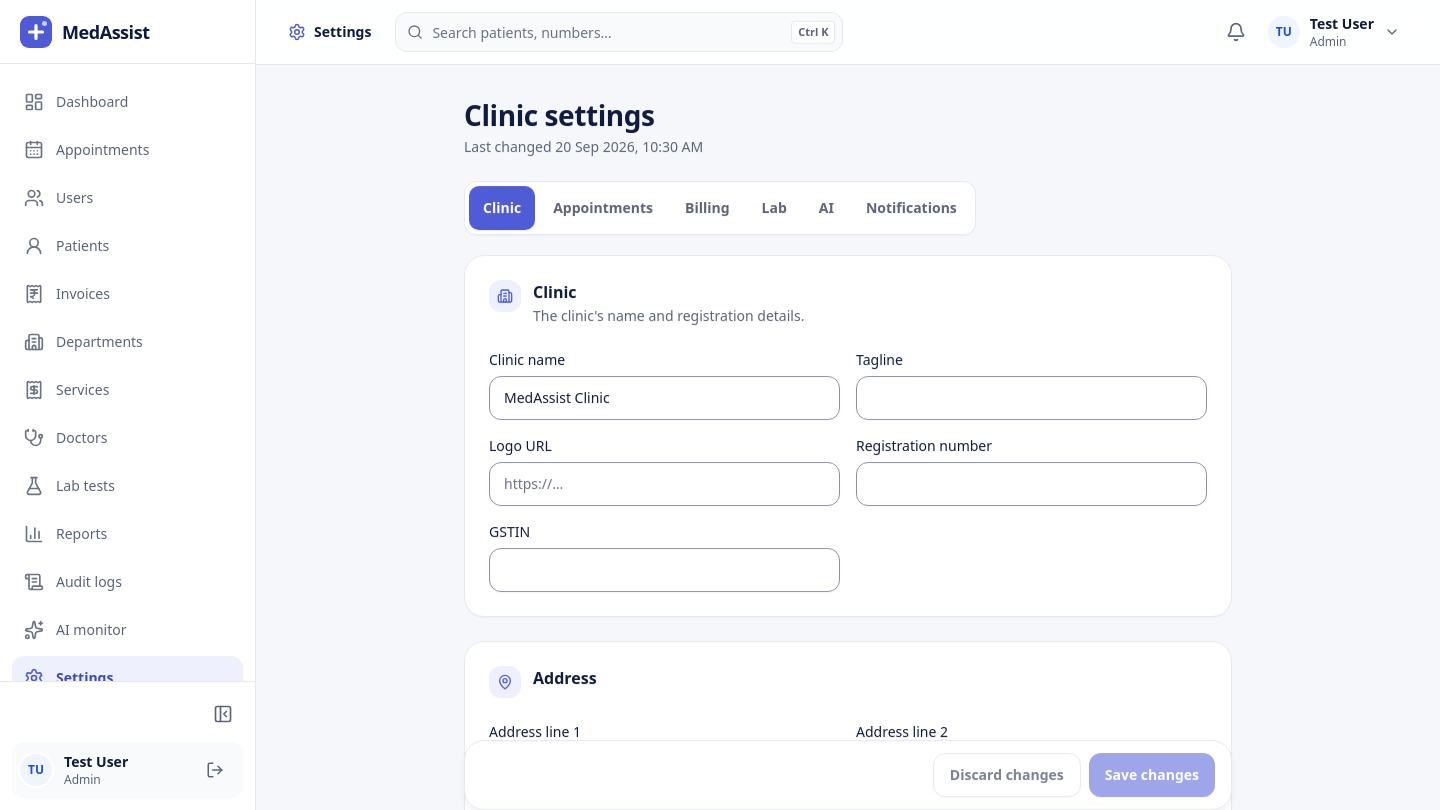
Test case: SettingsPage › saves only the changed fields, with tax as basis points
This screenshot has width=1440, height=810.
Expected: the field labelled "Clinic name" is shown, [489,376,840,420]
Expected: the button "Save changes" is disabled, [1089,753,1215,797]
Click the tab "Appointments" at [603, 208], box [539,186,667,230]
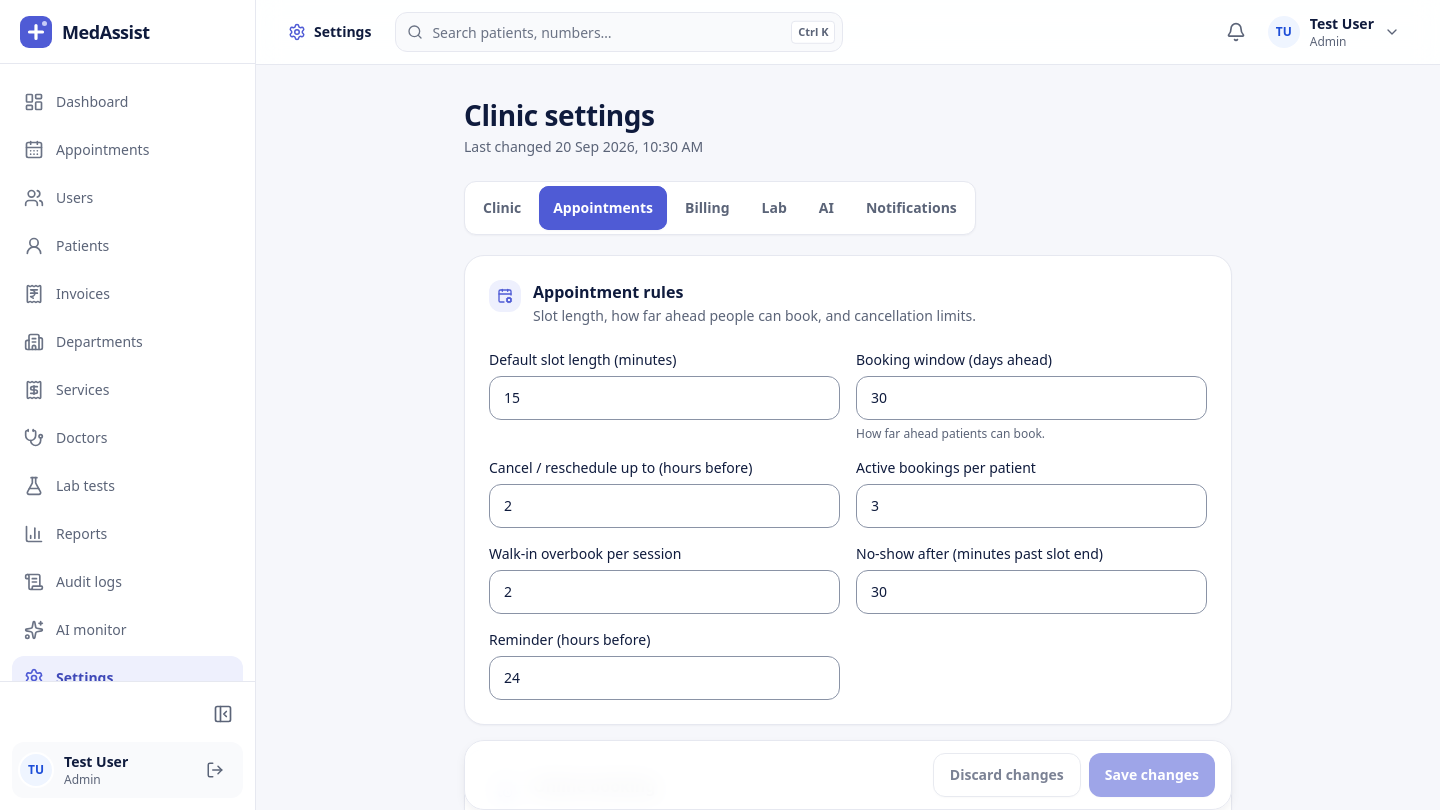
Replace the text in the number field labelled "Cancel / reschedule up to (hours before)" with "4" at [664, 506], box [489,484,840,528]
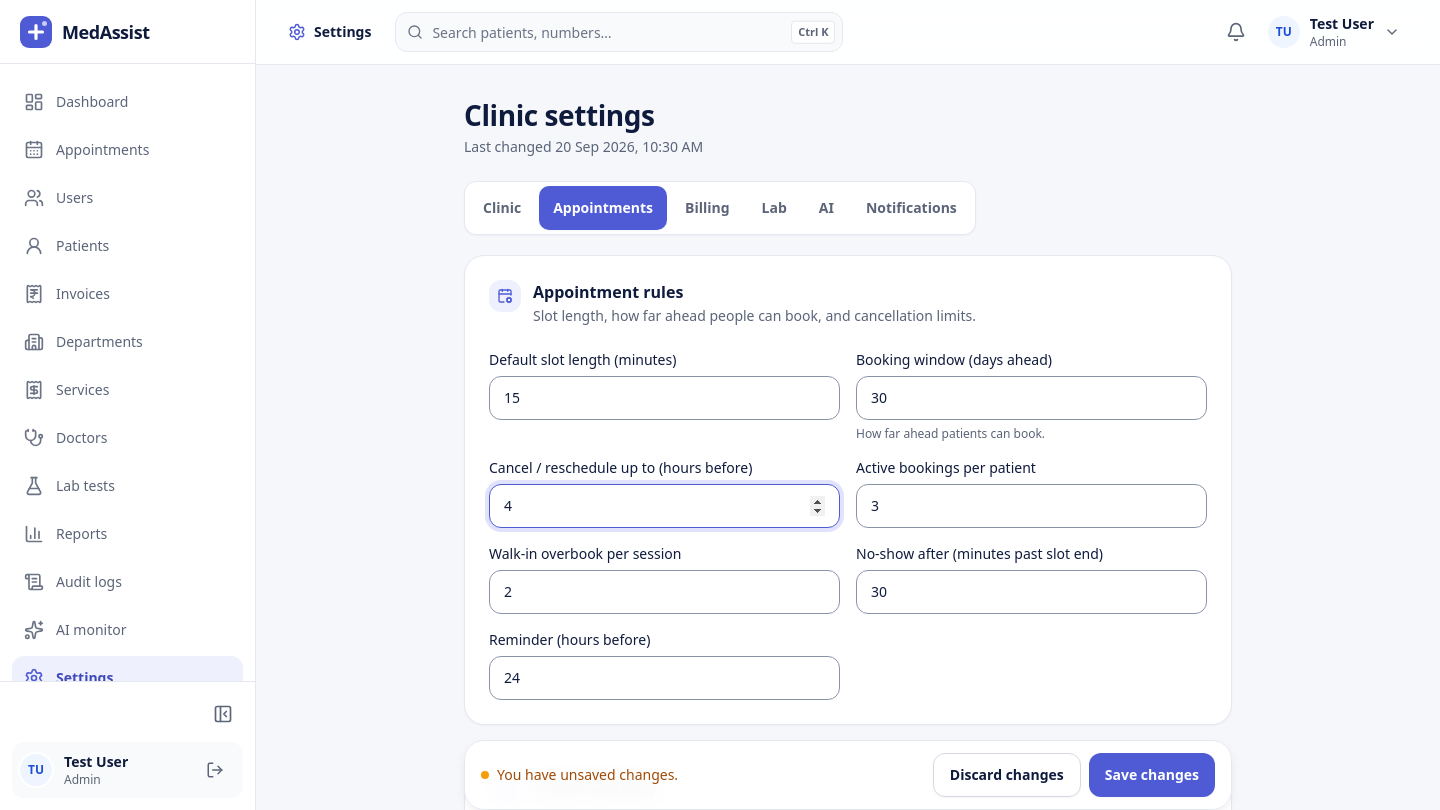
Click the tab "Billing" at [707, 208], box [671,186,744,230]
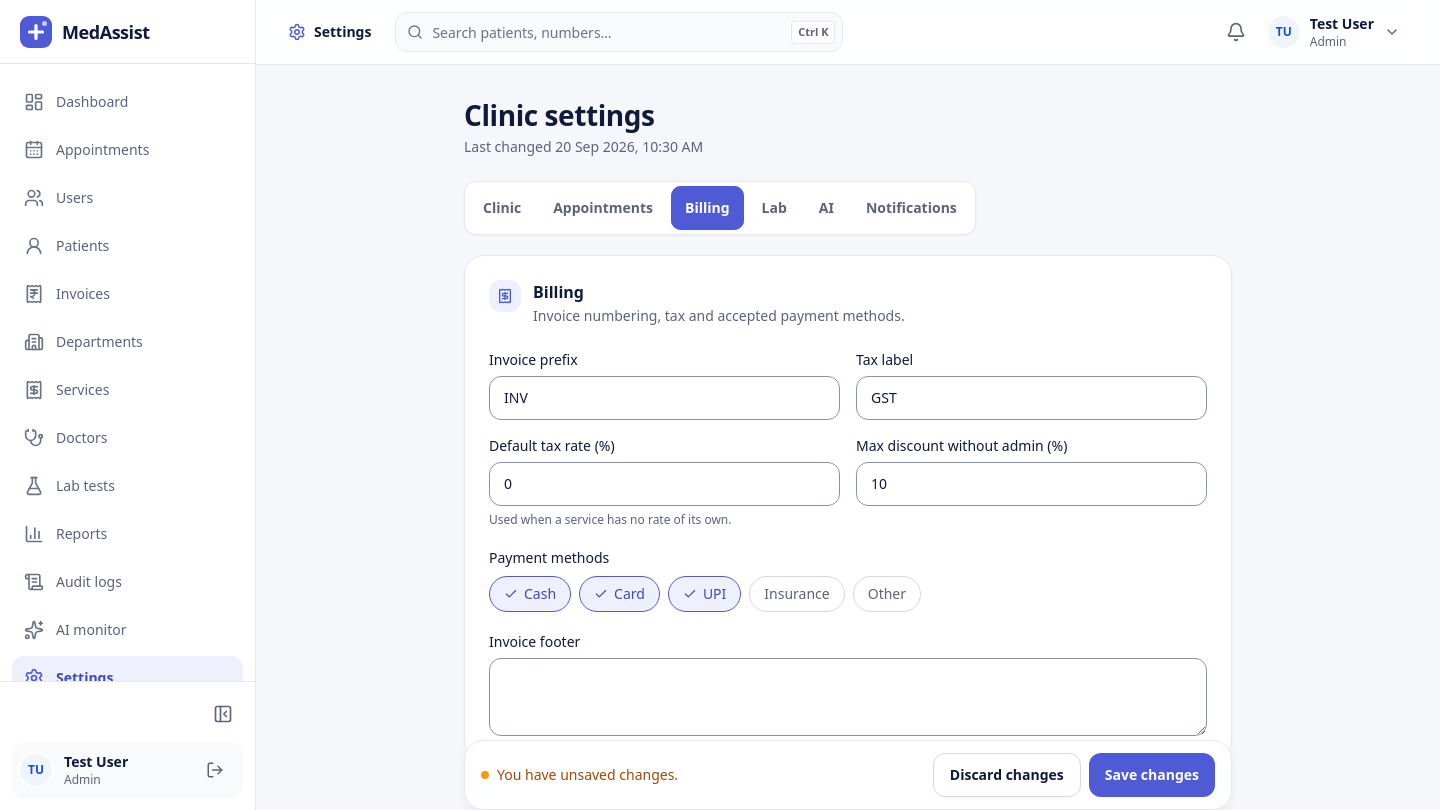
Replace the text in the number field labelled "Default tax rate (%)" with "18" at [664, 484], box [489,462,840,506]
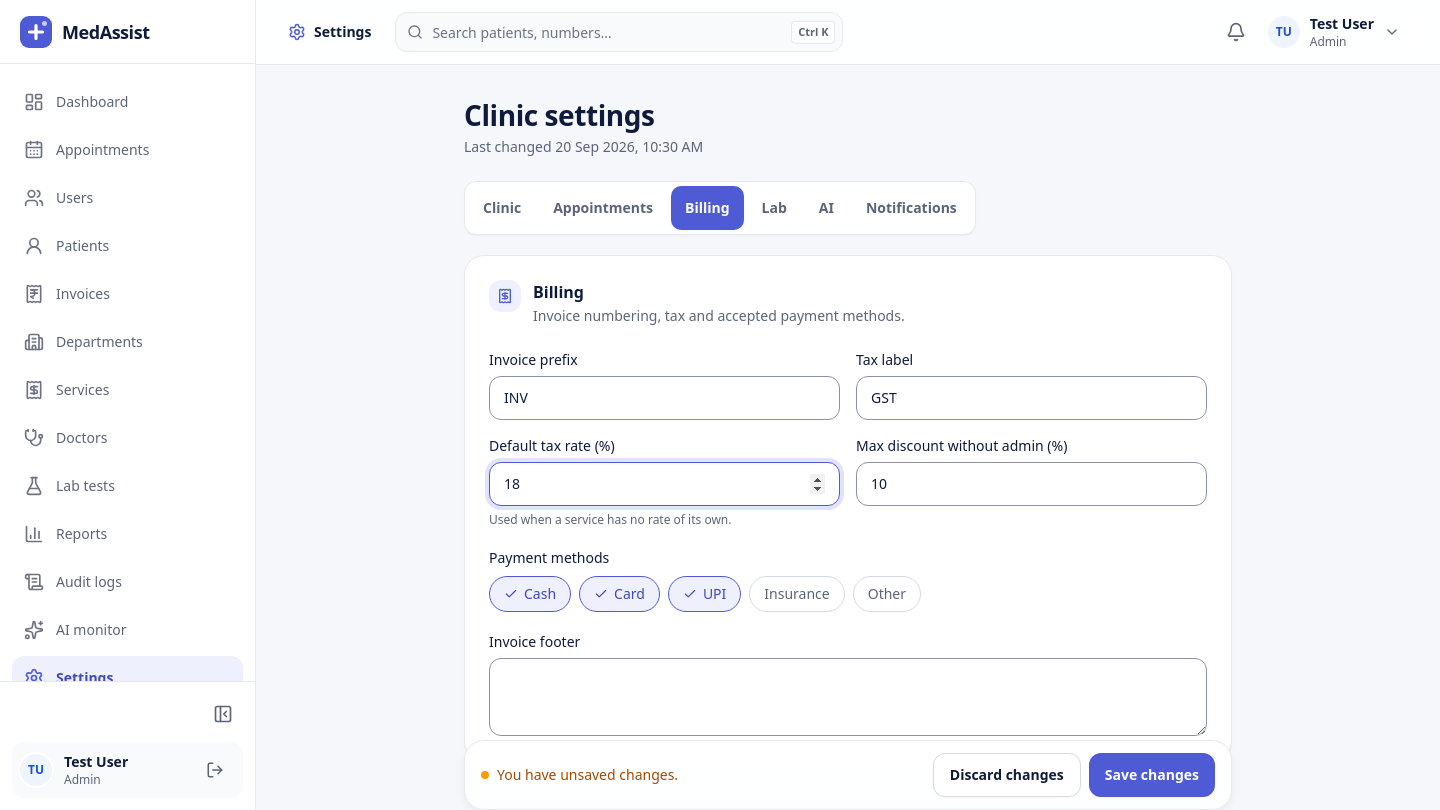
Click the button "Card" at [620, 594], box [579,576,660,612]
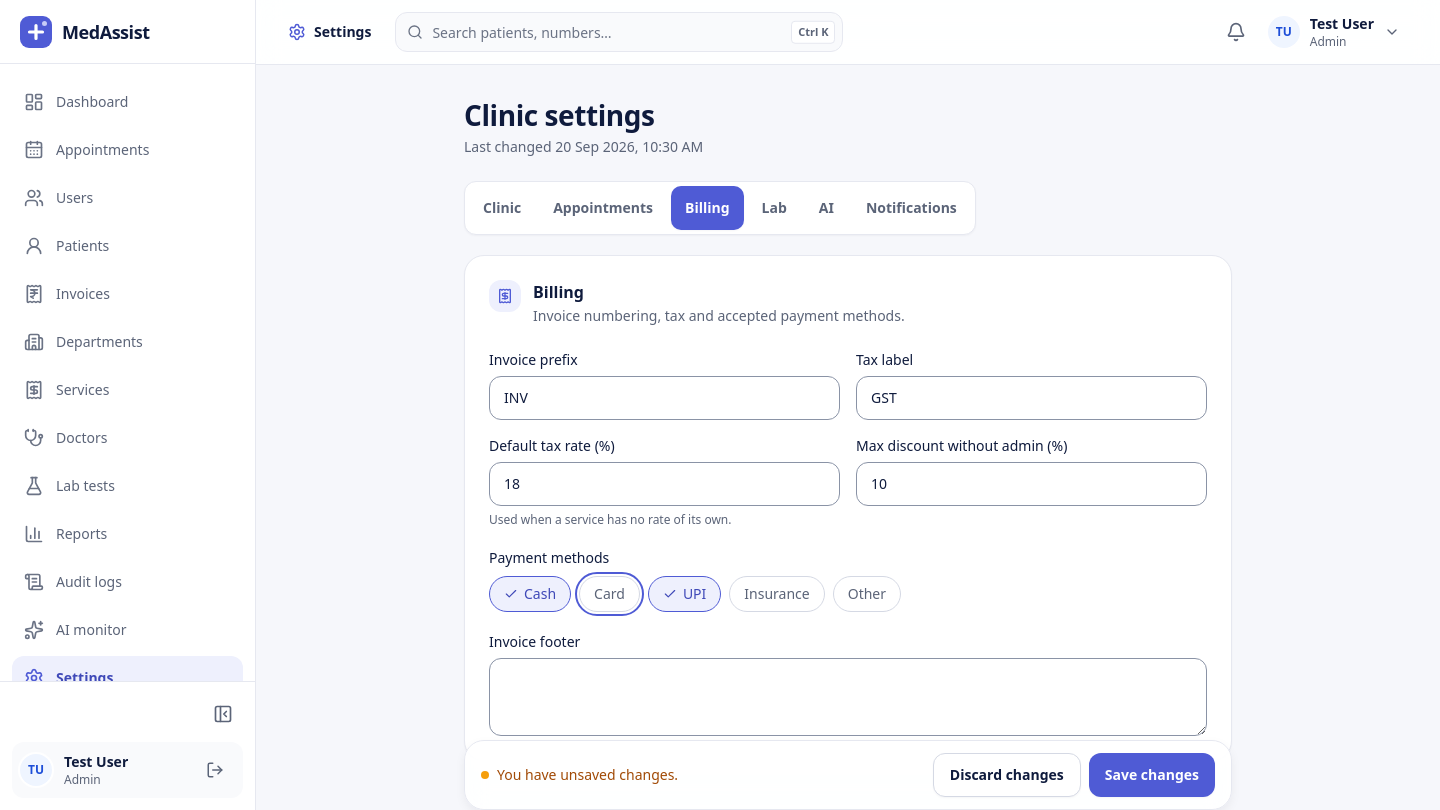
Result: the button "Save changes" is enabled
Click the button "Save changes" at [1152, 775], box [1089,753,1215,797]
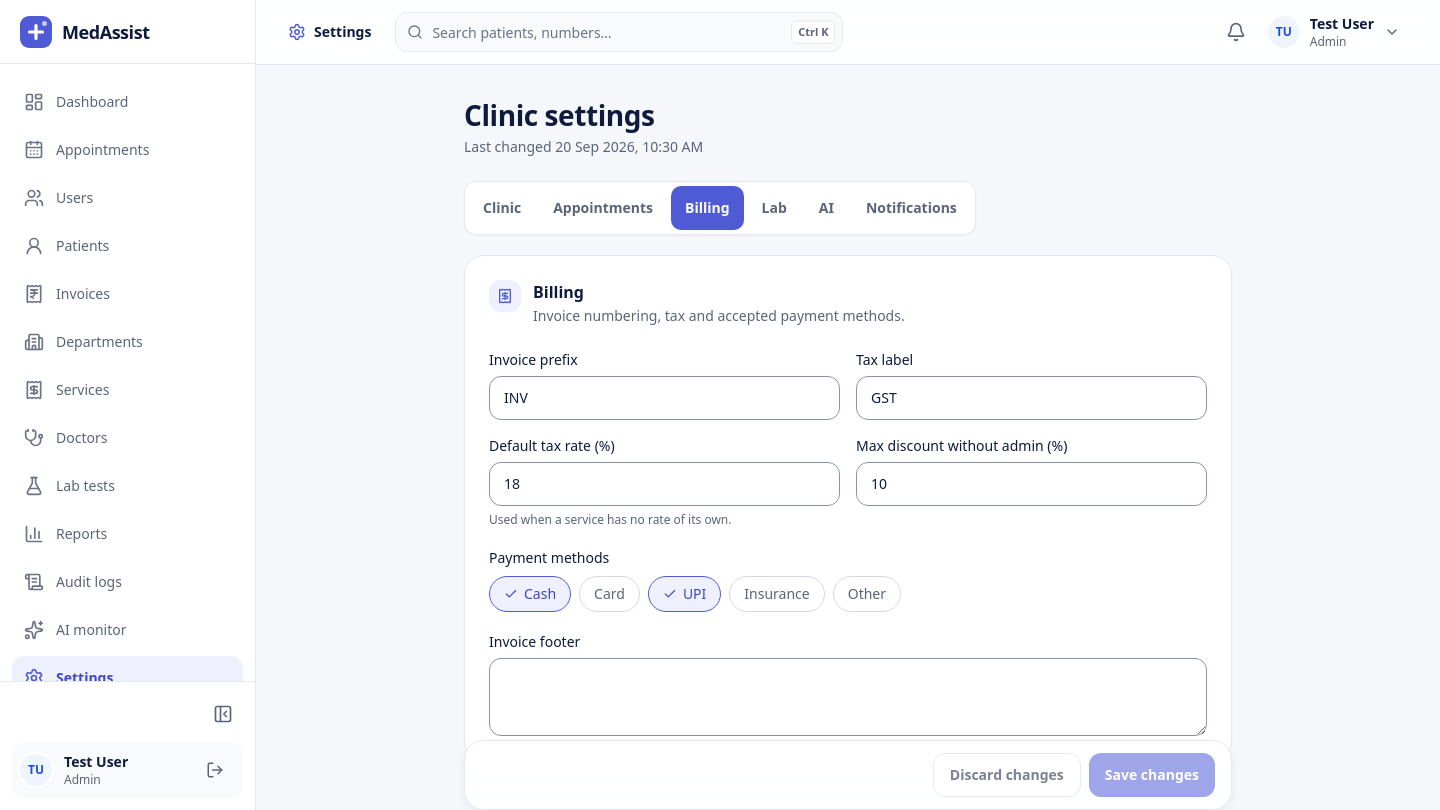
Result: the button "Save changes" is disabled at [1089,753,1215,797]
